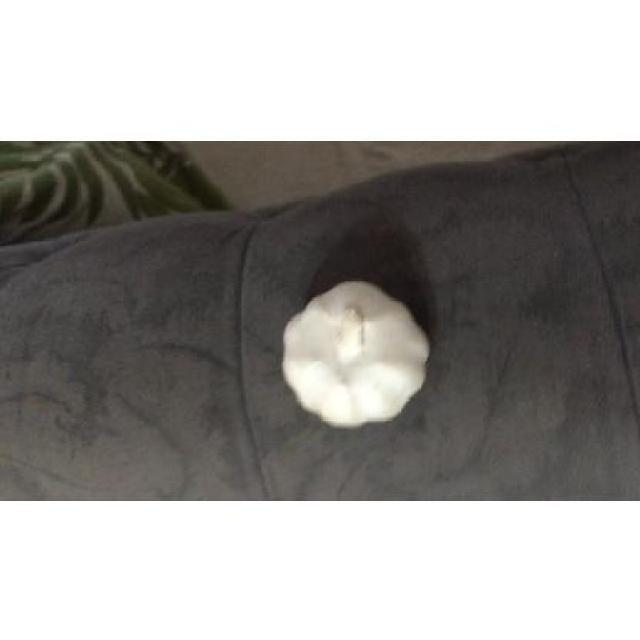garlic: (282, 281, 430, 427)
